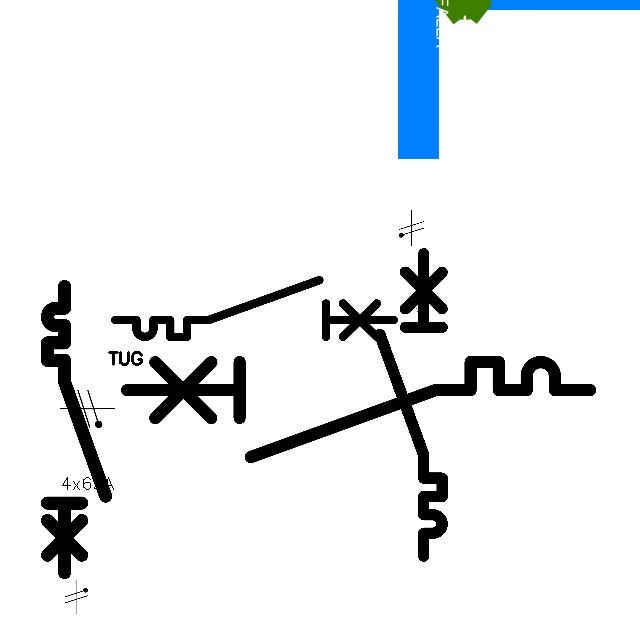interruptor_termomagnetico: (115, 350, 602, 469), (372, 246, 450, 564), (40, 279, 113, 580), (108, 273, 401, 344)
